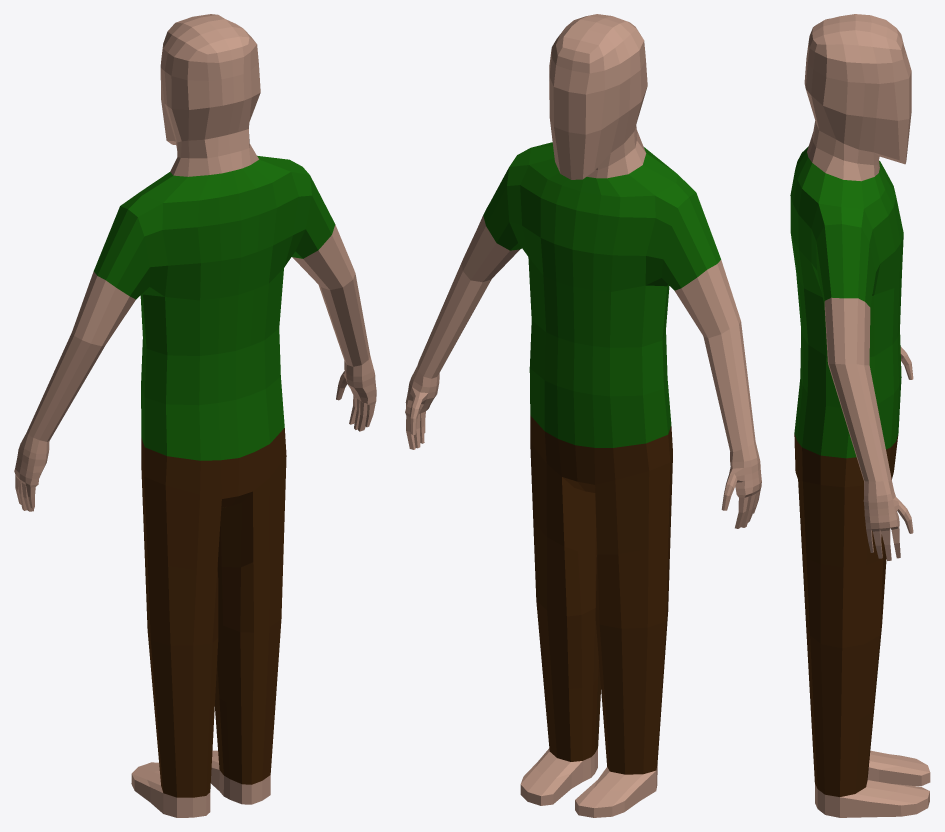
Rendered from Human.gltf.
3 views of the same model, side by side, from view 1: azimuth 30°, elevation 25°; view 2: azimuth 150°, elevation 25°; view 3: azimuth 270°, elevation 25° (orthographic).
Parts seen in each view (by area): view 1: Cylinder; view 2: Cylinder; view 3: Cylinder.
Part boxes in pixels (x1=…): Cylinder: x1=14, y1=14, x2=376, y2=817; Cylinder: x1=405, y1=14, x2=761, y2=817; Cylinder: x1=790, y1=14, x2=930, y2=817.
Bounding box in the file's own units: 5.06 × 10.54 × 1.73.
